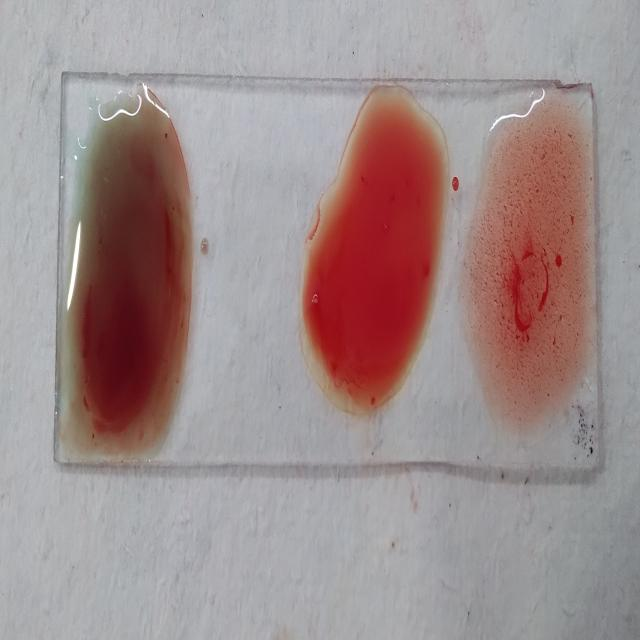D: (475, 99, 592, 419)
